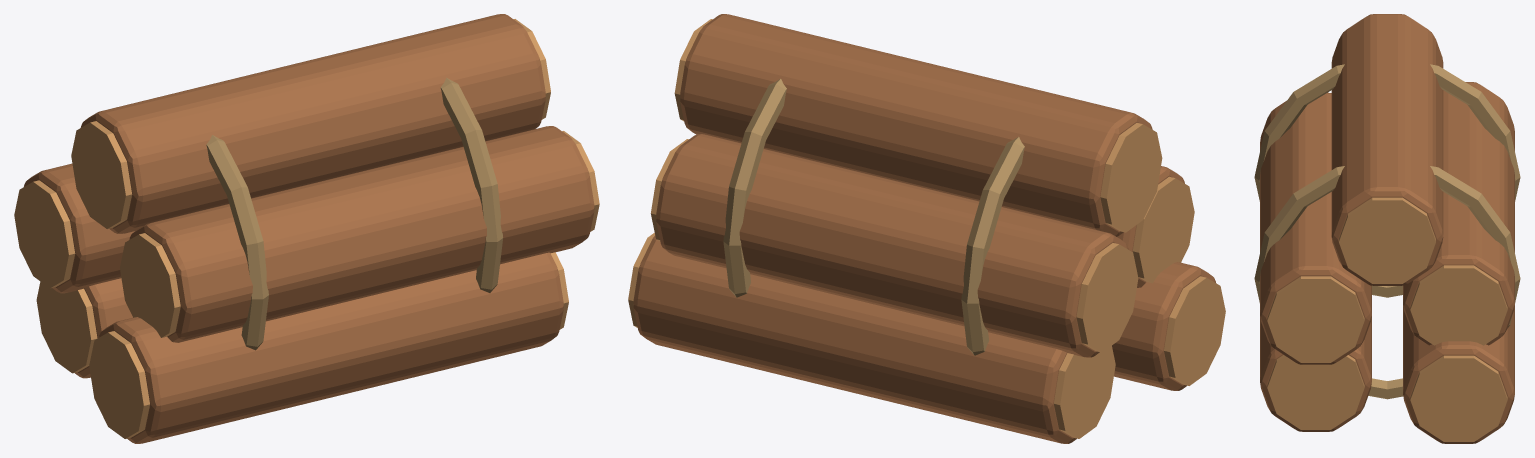
The model's file is economy_source_timber_v01.glb.
The picture shows the model from 3 angles, left to right: view 1: azimuth 30°, elevation 25°; view 2: azimuth 150°, elevation 25°; view 3: azimuth 270°, elevation 25°; orthographic projection. The views are drawn at different scales.
Visible parts, largest first — view 1: GEO_TimberLog_04, GEO_TimberLog_02, GEO_TimberLog_00, GEO_TimberLog_03, GEO_TimberEnd_03_L, GEO_TimberEnd_04_L, GEO_TimberEnd_00_L, GEO_TimberBinding, GEO_TimberBinding.001, GEO_TimberEnd_02_L, GEO_TimberEnd_01_L, GEO_TimberLog_01 (+1 smaller); view 2: GEO_TimberLog_04, GEO_TimberLog_03, GEO_TimberLog_01, GEO_TimberLog_00, GEO_TimberEnd_03_L, GEO_TimberEnd_04_L, GEO_TimberEnd_00_L, GEO_TimberBinding, GEO_TimberBinding.001, GEO_TimberEnd_02_L, GEO_TimberEnd_01_L, GEO_TimberEnd_03_R (+1 smaller); view 3: GEO_TimberLog_04, GEO_TimberLog_02, GEO_TimberLog_03, GEO_TimberEnd_01_R, GEO_TimberEnd_04_R, GEO_TimberEnd_02_R, GEO_TimberEnd_03_R, GEO_TimberEnd_00_R, GEO_TimberBinding.001, GEO_TimberBinding, GEO_TimberLog_01, GEO_TimberLog_00.
Part boxes in pixels (bbox=[...]): GEO_TimberLog_04: bbox=[80, 14, 545, 233]; GEO_TimberLog_02: bbox=[129, 126, 594, 342]; GEO_TimberLog_00: bbox=[98, 252, 563, 443]; GEO_TimberLog_03: bbox=[24, 163, 134, 293]; GEO_TimberEnd_03_L: bbox=[14, 180, 75, 288]; GEO_TimberEnd_04_L: bbox=[71, 121, 132, 228]; GEO_TimberEnd_00_L: bbox=[89, 331, 149, 438]; GEO_TimberBinding: bbox=[206, 135, 268, 350]; GEO_TimberBinding.001: bbox=[440, 77, 502, 292]; GEO_TimberEnd_02_L: bbox=[120, 233, 180, 337]; GEO_TimberEnd_01_L: bbox=[36, 281, 97, 373]; GEO_TimberLog_01: bbox=[75, 278, 132, 378]; GEO_TimberLog_04: bbox=[680, 14, 1152, 236]; GEO_TimberLog_03: bbox=[656, 134, 1128, 357]; GEO_TimberLog_01: bbox=[633, 235, 1076, 443]; GEO_TimberLog_00: bbox=[1112, 262, 1215, 390]; GEO_TimberEnd_03_L: bbox=[1076, 243, 1138, 352]; GEO_TimberEnd_04_L: bbox=[1100, 123, 1162, 232]; GEO_TimberEnd_00_L: bbox=[1164, 276, 1225, 385]; GEO_TimberBinding: bbox=[961, 137, 1024, 355]; GEO_TimberBinding.001: bbox=[723, 79, 786, 297]; GEO_TimberEnd_02_L: bbox=[1132, 176, 1194, 283]; GEO_TimberEnd_01_L: bbox=[1053, 346, 1115, 438]; GEO_TimberEnd_03_R: bbox=[650, 139, 688, 241]; GEO_TimberLog_04: bbox=[1331, 14, 1443, 285]; GEO_TimberLog_02: bbox=[1260, 92, 1371, 364]; GEO_TimberLog_03: bbox=[1403, 82, 1514, 345]; GEO_TimberEnd_01_R: bbox=[1410, 355, 1507, 441]; GEO_TimberEnd_04_R: bbox=[1339, 197, 1435, 283]; GEO_TimberEnd_02_R: bbox=[1267, 276, 1364, 362]; GEO_TimberEnd_03_R: bbox=[1410, 265, 1507, 345]; GEO_TimberEnd_00_R: bbox=[1267, 355, 1364, 429]; GEO_TimberBinding.001: bbox=[1254, 166, 1520, 399]; GEO_TimberBinding: bbox=[1254, 64, 1520, 297]; GEO_TimberLog_01: bbox=[1403, 305, 1514, 443]; GEO_TimberLog_00: bbox=[1260, 316, 1371, 431].
Bounding box in the file's own units: 1.64 × 0.9804 × 0.93.
